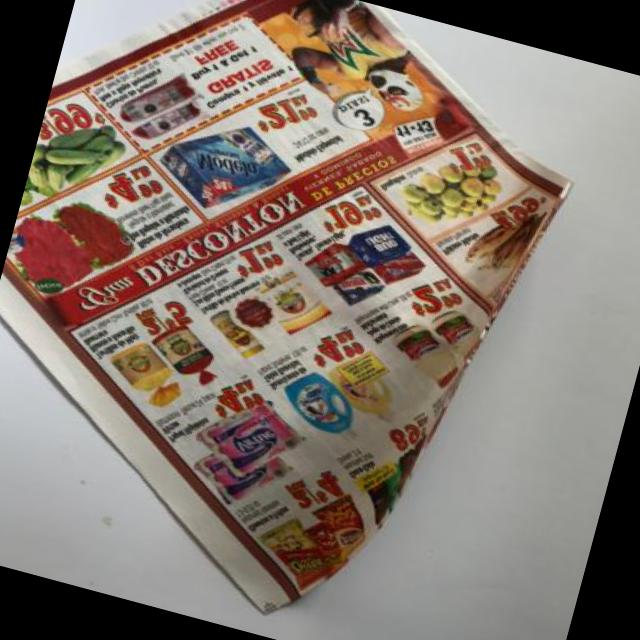paper: (0, 0, 527, 590)
